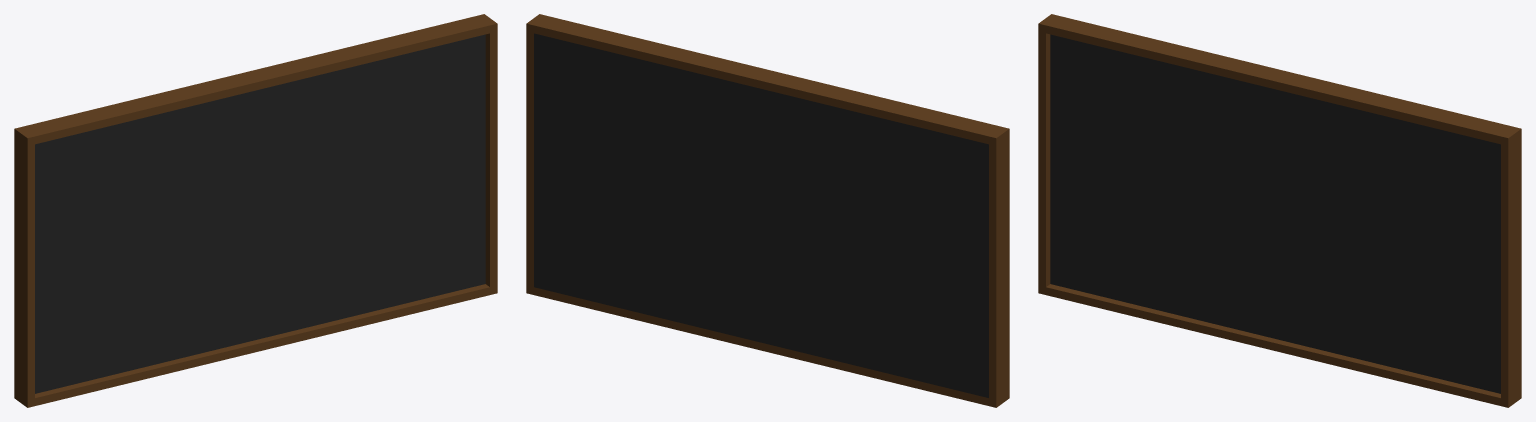
Rendered from Credits.glb.
3 views of the same model, side by side, from view 1: azimuth 30°, elevation 25°; view 2: azimuth 150°, elevation 25°; view 3: azimuth 330°, elevation 25° (orthographic).
Parts seen in each view (by area): view 1: Back, Border; view 2: Back, Border; view 3: Back, Border.
Boxes of the visible parts, bbox=[...] form: Back: bbox=[35, 34, 485, 393]; Border: bbox=[14, 14, 497, 407]; Back: bbox=[534, 33, 988, 397]; Border: bbox=[526, 14, 1009, 407]; Back: bbox=[1050, 34, 1500, 393]; Border: bbox=[1038, 14, 1521, 407].
Bounding box in the file's own units: 6.2 × 3.4 × 0.3.
